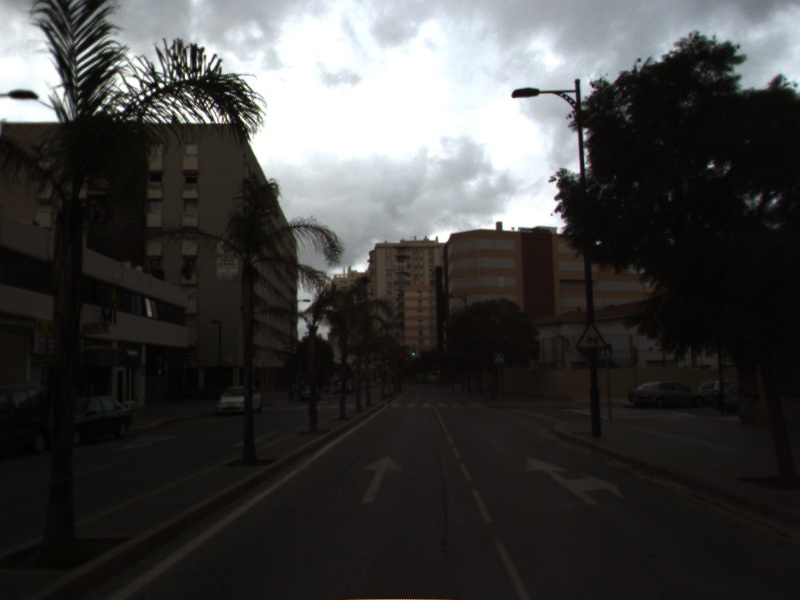STRAIGHT: (359, 452, 406, 505)
STRAIGHT_RIGHT: (523, 453, 626, 507)
